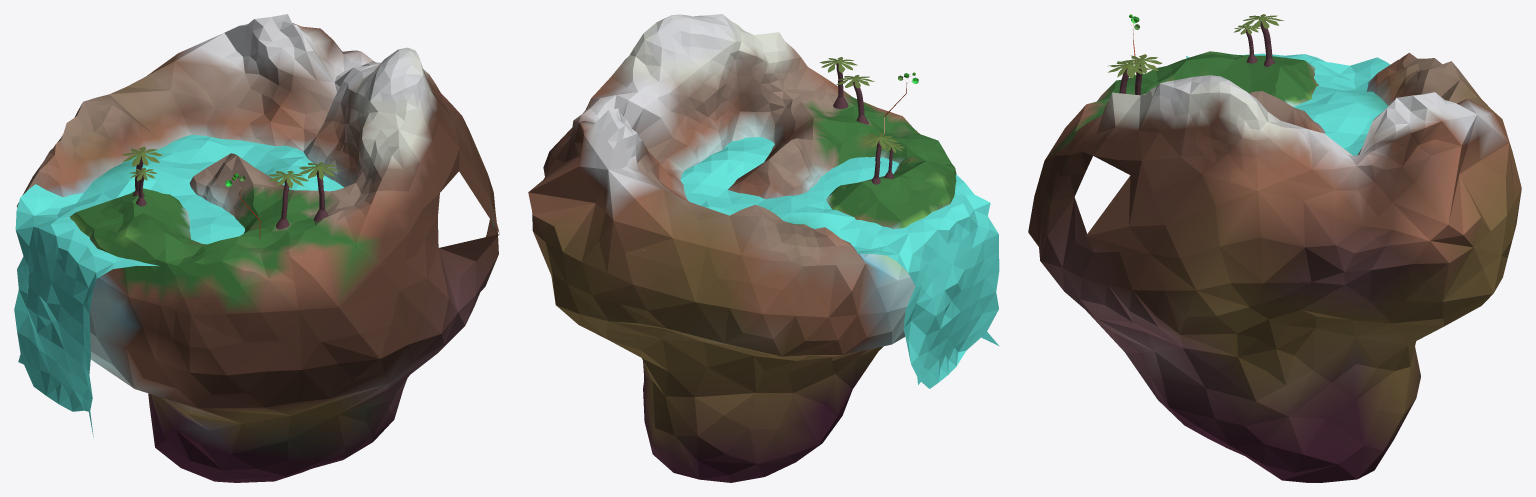
The model's file is island2.gltf.
3 renders of one model, left to right at view 1: azimuth 30°, elevation 25°; view 2: azimuth 150°, elevation 25°; view 3: azimuth 270°, elevation 25°, orthographic. The views are drawn at different scales.
Parts seen in each view (by area): view 1: Cylinder.002; view 2: Cylinder.002; view 3: Cylinder.002.
Boxes of the visible parts, x1=… form: Cylinder.002: x1=14, y1=14, x2=499, y2=482; Cylinder.002: x1=528, y1=14, x2=999, y2=482; Cylinder.002: x1=1028, y1=14, x2=1521, y2=482.
Size of the model in its own units: 20.16 by 20.39 by 20.5.
